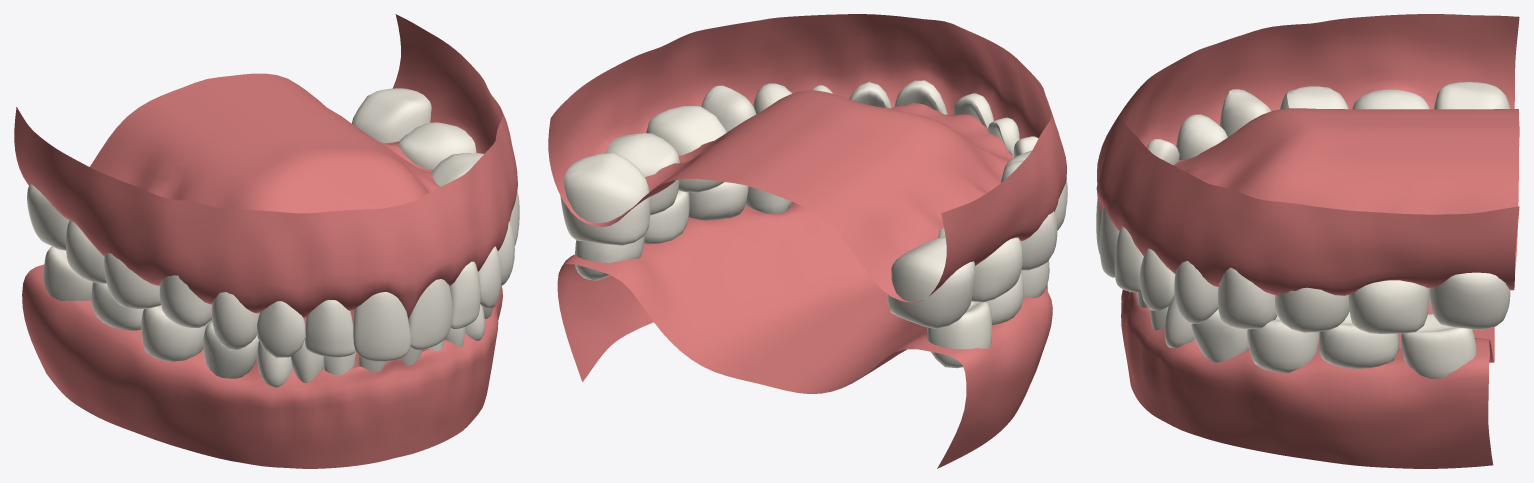
The model's file is dientes-v1.glb.
3 renders of one model, left to right at view 1: azimuth 30°, elevation 25°; view 2: azimuth 150°, elevation 25°; view 3: azimuth 270°, elevation 25°, orthographic. The views are drawn at different scales.
Parts seen in each view (by area): view 1: teeth_upper_gum, teeth_bottom_gum, t_11, t_28, t_46, t_27, t_12, t_21, t_13, t_14, t_16, t_15 (+12 smaller); view 2: teeth_upper_gum, teeth_bottom_gum, t_28, t_18, t_26, t_27, t_48, t_17, t_36, t_38, t_25, t_37 (+10 smaller); view 3: teeth_upper_gum, teeth_bottom_gum, t_28, t_27, t_38, t_37, t_36, t_26, t_25, t_24, t_35, t_18 (+9 smaller).
Part boxes in pixels (<box>): teeth_upper_gum: <box>14,14,517,317</box>; teeth_bottom_gum: <box>22,264,502,468</box>; t_11: <box>353,292,410,361</box>; t_28: <box>352,88,431,143</box>; t_46: <box>141,305,211,361</box>; t_27: <box>398,122,476,169</box>; t_12: <box>305,300,355,357</box>; t_21: <box>408,279,452,349</box>; t_13: <box>257,301,305,357</box>; t_14: <box>211,292,259,350</box>; t_16: <box>104,253,160,309</box>; t_15: <box>159,275,211,327</box>; teeth_upper_gum: <box>548,14,1066,302</box>; teeth_bottom_gum: <box>557,202,1052,468</box>; t_28: <box>560,152,650,245</box>; t_18: <box>887,237,974,328</box>; t_26: <box>646,106,726,192</box>; t_27: <box>605,133,679,215</box>; t_48: <box>927,301,991,368</box>; t_17: <box>938,228,1022,302</box>; t_36: <box>688,182,748,220</box>; t_38: <box>575,234,645,280</box>; t_25: <box>701,85,756,132</box>; t_37: <box>644,190,689,244</box>; teeth_upper_gum: <box>1096,14,1519,295</box>; teeth_bottom_gum: <box>1121,289,1494,468</box>; t_28: <box>1429,272,1510,329</box>; t_27: <box>1348,280,1429,333</box>; t_38: <box>1401,314,1476,378</box>; t_37: <box>1318,312,1398,368</box>; t_36: <box>1247,316,1318,372</box>; t_26: <box>1275,287,1349,332</box>; t_25: <box>1217,267,1277,329</box>; t_24: <box>1174,261,1218,323</box>; t_35: <box>1191,309,1248,362</box>; t_18: <box>1434,82,1510,109</box>.
Size of the model in its own units: 259 by 159 by 228.
